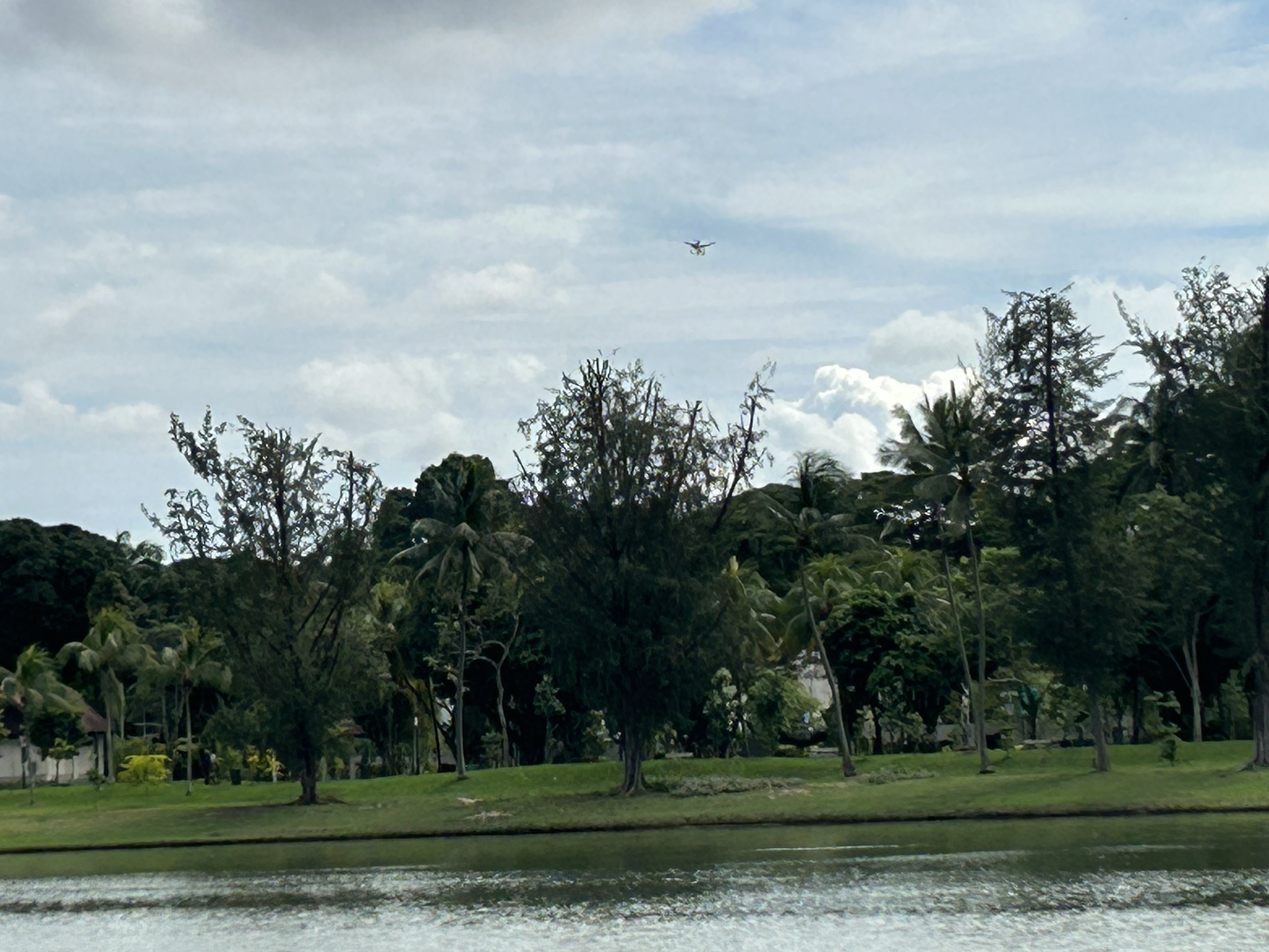drone_other: (682, 238, 717, 257)
